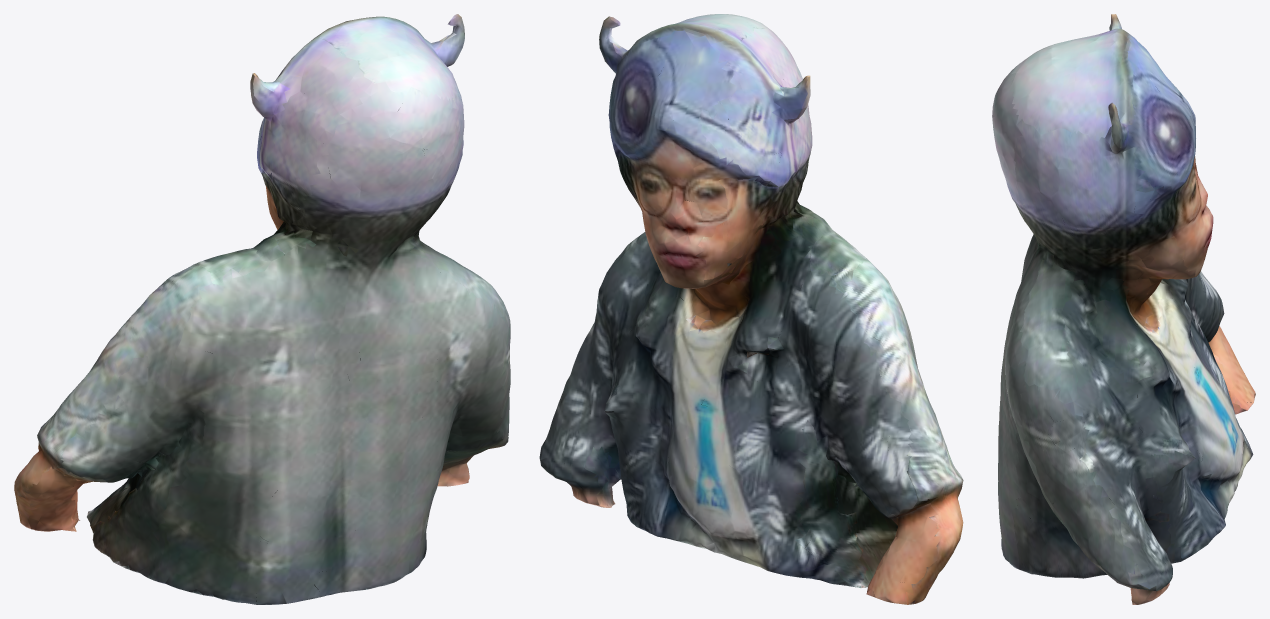
The picture shows the model from 3 angles, left to right: view 1: azimuth 30°, elevation 25°; view 2: azimuth 150°, elevation 25°; view 3: azimuth 270°, elevation 25°; orthographic projection. The views are drawn at different scales.
Visible parts, largest first — view 1: world; view 2: world; view 3: world.
Part boxes in pixels (x1,y1,x2,y2): world: [14, 14, 510, 604]; world: [539, 14, 963, 604]; world: [992, 14, 1255, 604].
Size of the model in its own units: 0.959 by 1.05 by 0.4737.
1 material, 1 textured.
